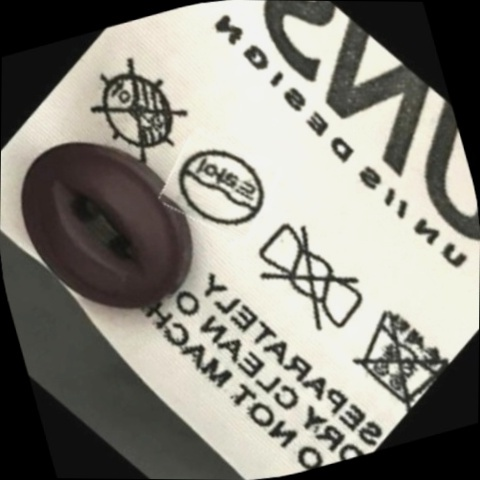DN_dry: (70, 42, 207, 180)
DN_wring: (234, 203, 387, 357)
dry_clean: (158, 125, 282, 251)
hand_wash: (331, 284, 463, 422)
